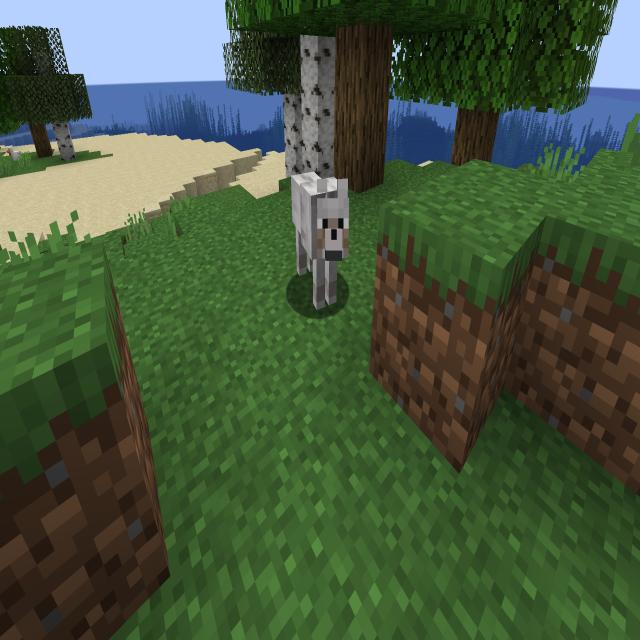Wolf: (283, 167, 353, 331)
chicken: (4, 141, 26, 171)
